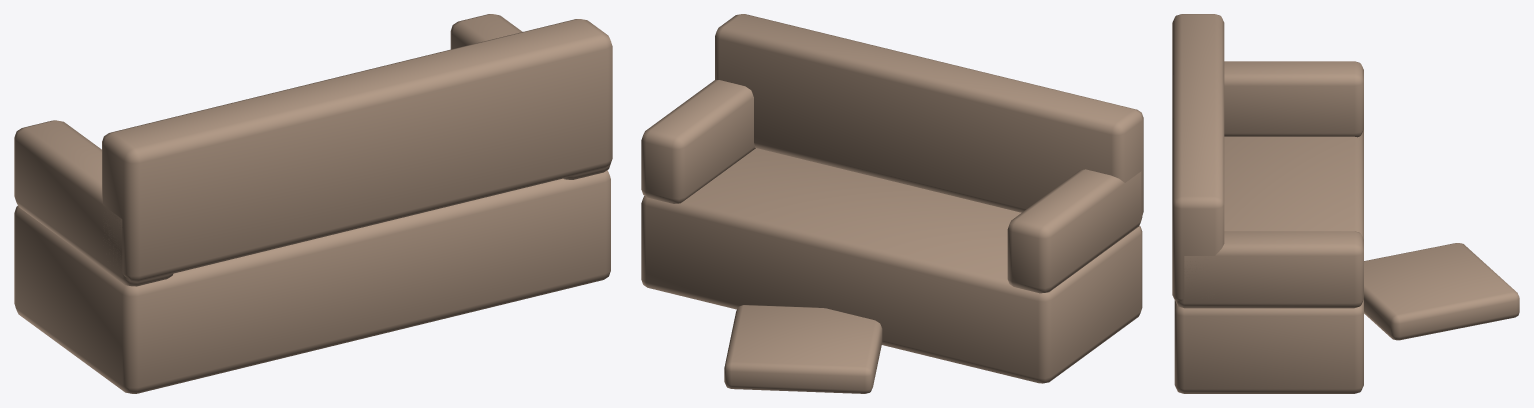
Rendered from res_couch.glb.
3 views of the same model, side by side, from view 1: azimuth 30°, elevation 25°; view 2: azimuth 150°, elevation 25°; view 3: azimuth 270°, elevation 25° (orthographic). The views are drawn at different scales.
Visible parts, largest first — view 1: res_couch; view 2: res_couch; view 3: res_couch.
Boxes of the visible parts, <box> form: res_couch: <box>14,14,612,393</box>; res_couch: <box>641,14,1143,393</box>; res_couch: <box>1172,14,1519,393</box>.
Bounding box in the file's own units: 1.9 × 0.92 × 1.47.
